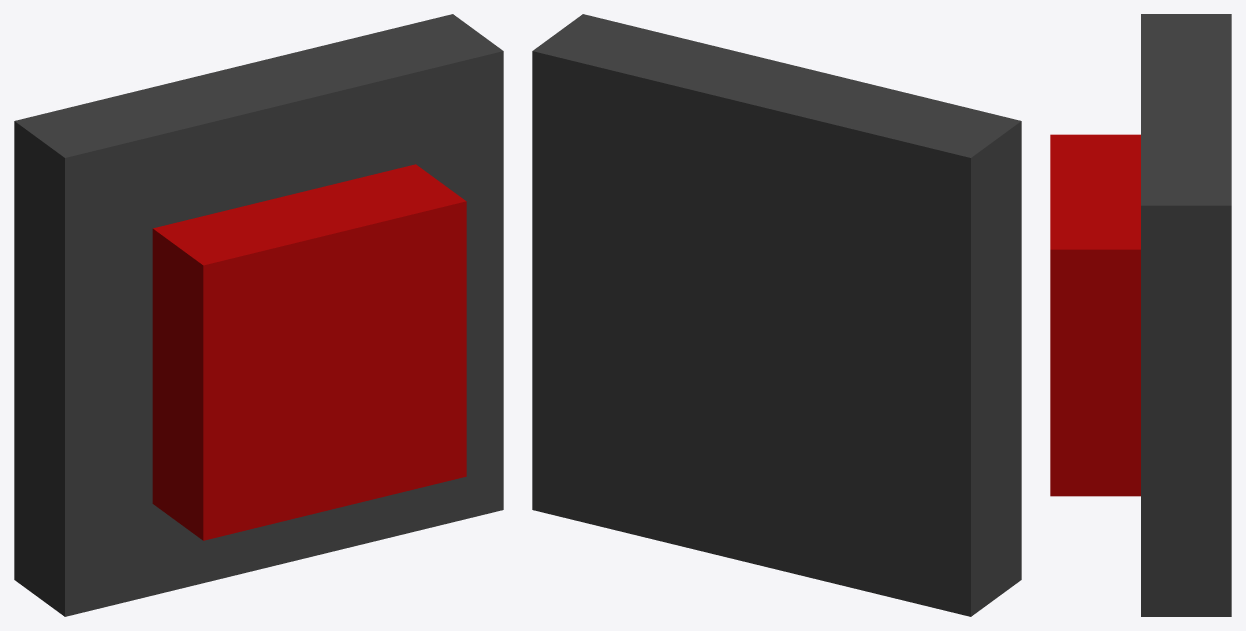
Rendered from button.obj.
The picture shows the model from 3 angles, left to right: view 1: azimuth 30°, elevation 25°; view 2: azimuth 150°, elevation 25°; view 3: azimuth 270°, elevation 25°; orthographic projection. The views are drawn at different scales.
Bounding box in the file's own units: 0.5 × 0.5 × 0.2.
Materials: 1 (1 with a texture image).
